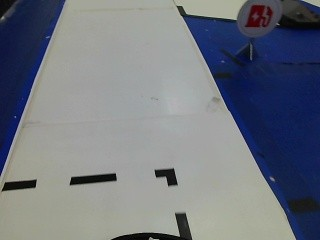battery: (235, 1, 281, 35)
